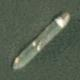ship: (0, 0, 36, 35)
